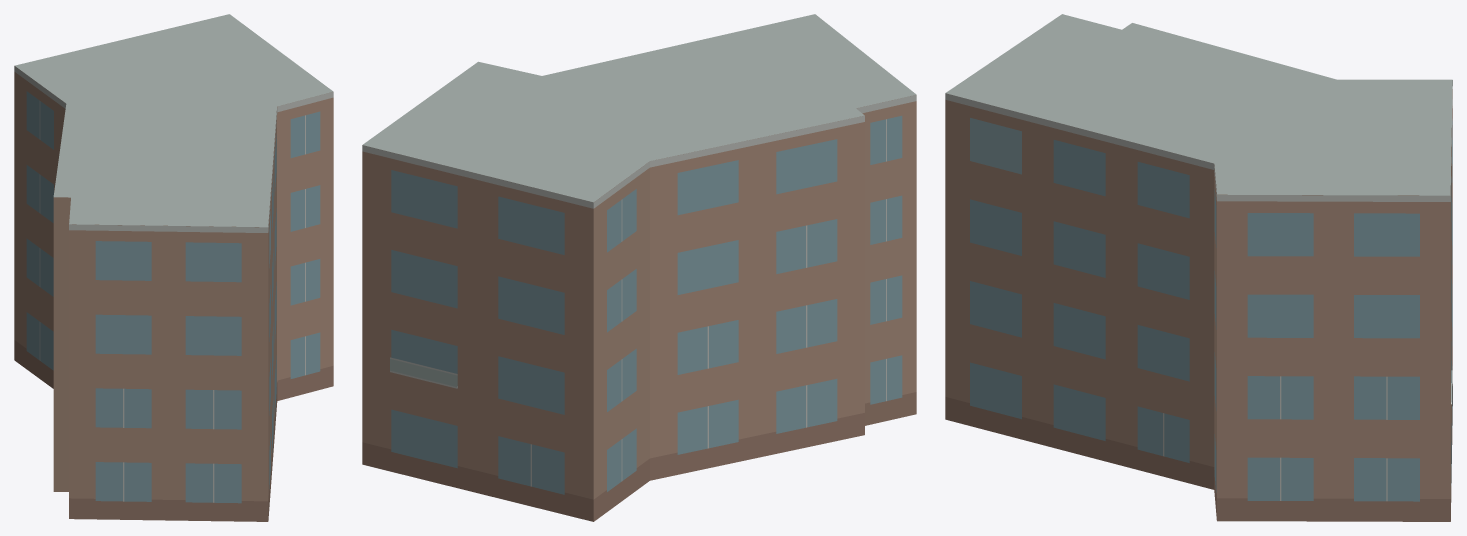
Rendered from survey-upis-32776790.glb.
The picture shows the model from 3 angles, left to right: view 1: azimuth 30°, elevation 25°; view 2: azimuth 150°, elevation 25°; view 3: azimuth 270°, elevation 25°; orthographic projection. The views are drawn at different scales.
Visible parts, largest first — view 1: survey-upis-32776790.tmp; view 2: survey-upis-32776790.tmp; view 3: survey-upis-32776790.tmp.
Part boxes in pixels (x1=…): survey-upis-32776790.tmp: x1=14, y1=14, x2=333, y2=521; survey-upis-32776790.tmp: x1=362, y1=14, x2=916, y2=521; survey-upis-32776790.tmp: x1=945, y1=14, x2=1452, y2=521.
Size of the model in its own units: 14.57 by 12.2 by 17.2.
